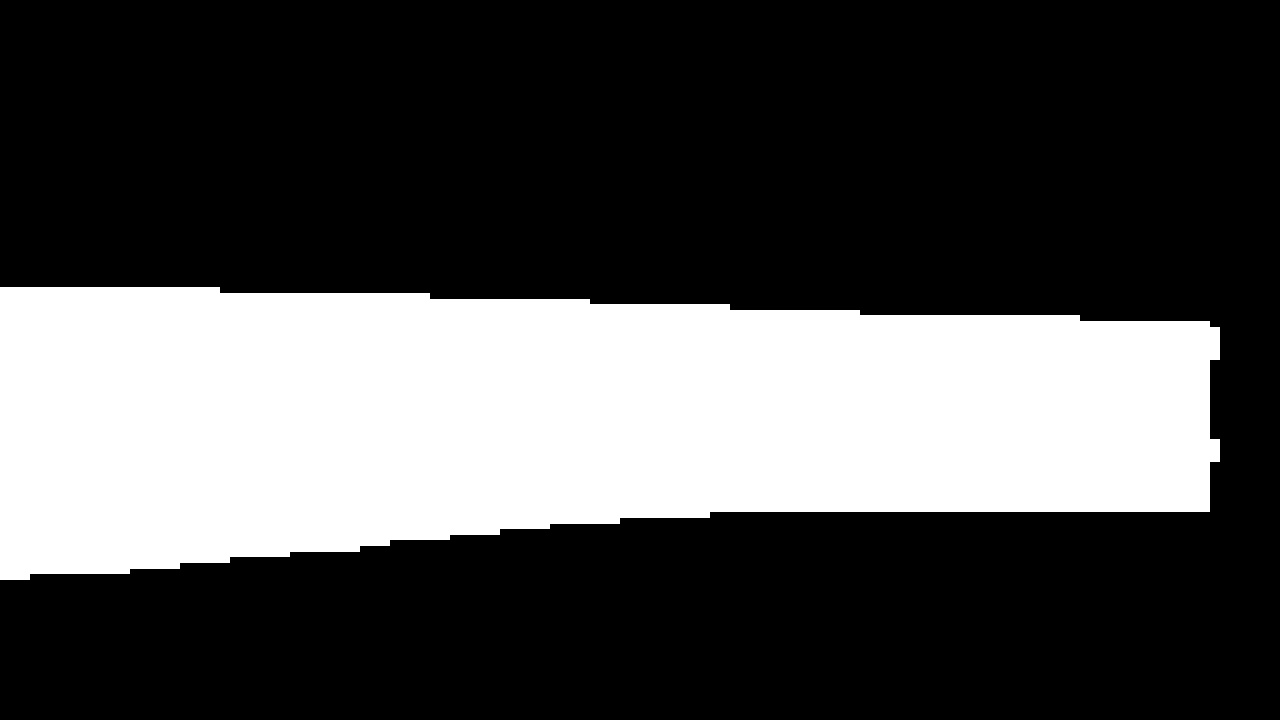Turbine: (2, 287, 1229, 587)
